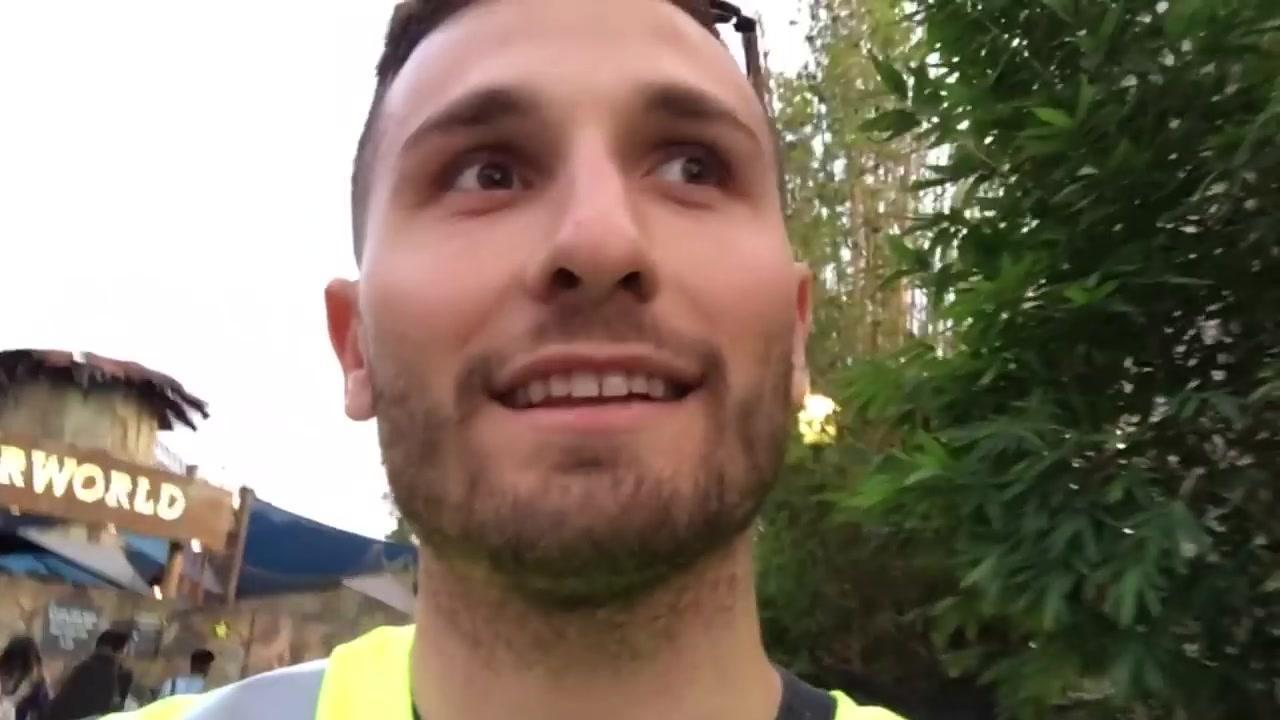vest: (92, 620, 938, 718)
